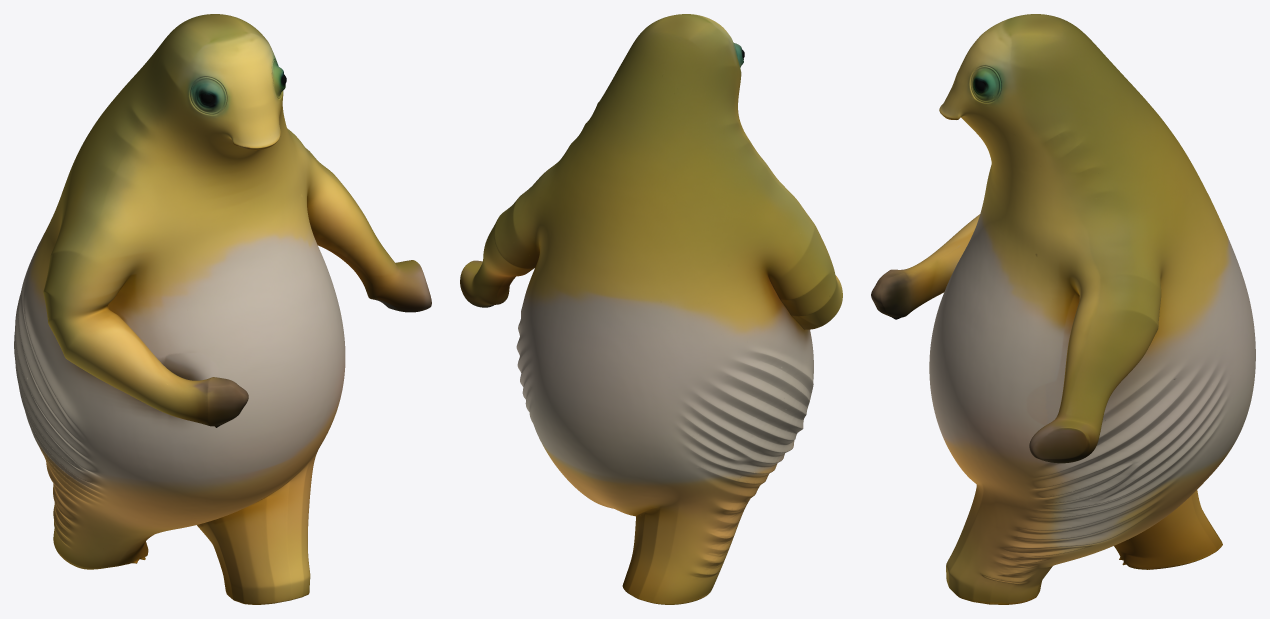
Rendered from frog-run.glb.
The picture shows the model from 3 angles, left to right: view 1: azimuth 30°, elevation 25°; view 2: azimuth 150°, elevation 25°; view 3: azimuth 270°, elevation 25°; orthographic projection. The views are drawn at different scales.
Parts seen in each view (by area): view 1: node_0; view 2: node_0; view 3: node_0.
Boxes of the visible parts, x1,y1,x2,y2 form: node_0: (14, 14, 431, 604); node_0: (460, 14, 842, 604); node_0: (871, 14, 1255, 604).
Bounding box in the file's own units: 0.7471 × 1.05 × 0.6567.
1 material, 1 textured.
